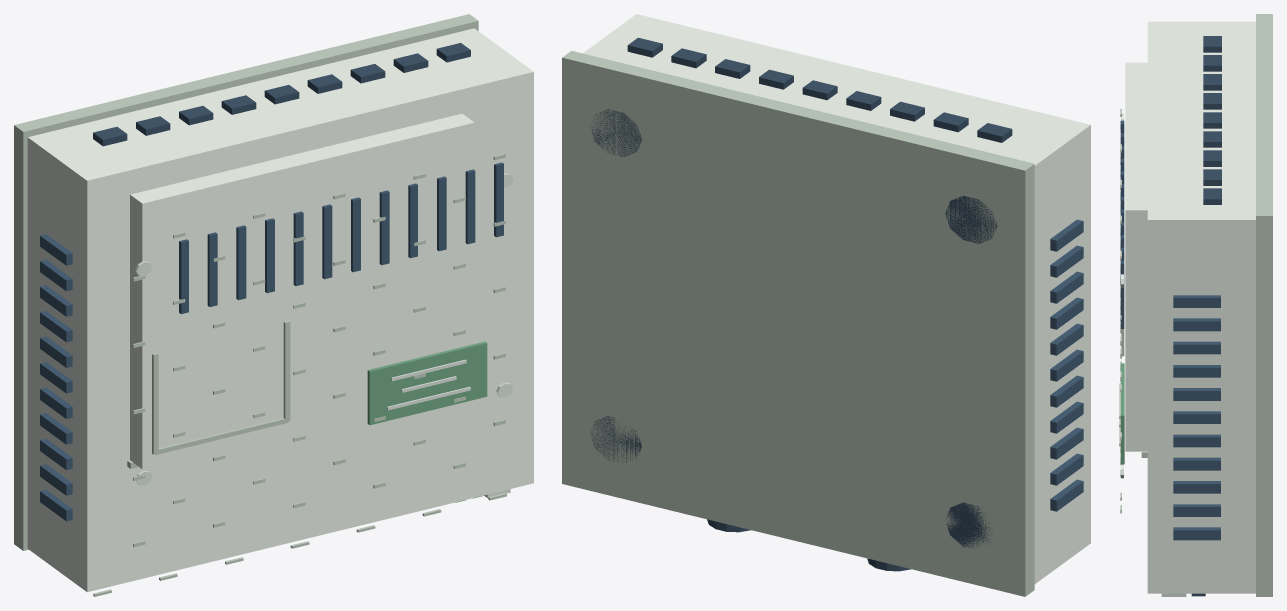
Rendered from psx_dvr_console.glb.
3 renders of one model, left to right at view 1: azimuth 30°, elevation 25°; view 2: azimuth 150°, elevation 25°; view 3: azimuth 270°, elevation 25°, orthographic. The views are drawn at different scales.
Parts seen in each view (by area): view 1: psx_dvr_console; view 2: psx_dvr_console; view 3: psx_dvr_console.
Part boxes in pixels (x1,y1,x2,y2): psx_dvr_console: [14, 14, 533, 596]; psx_dvr_console: [562, 14, 1090, 596]; psx_dvr_console: [1119, 14, 1272, 596].
Size of the model in its own units: 0.44 by 0.4 by 0.14.
